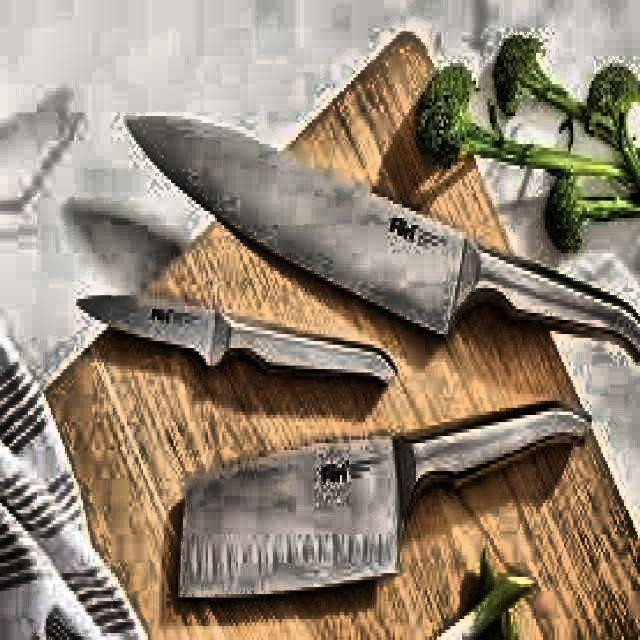knife: (122, 110, 640, 362), (171, 393, 597, 611), (74, 288, 398, 397)
